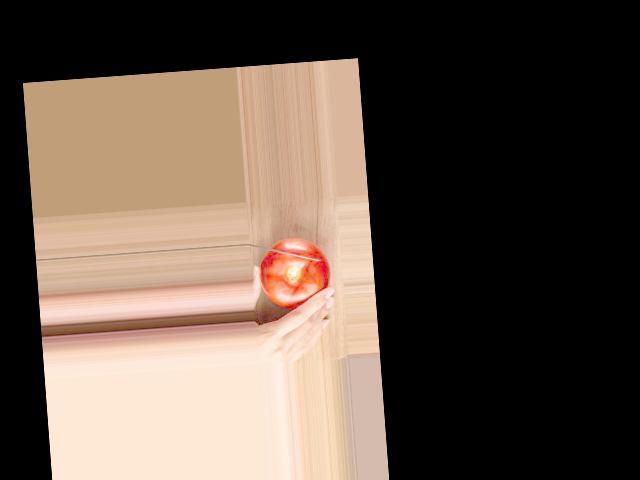tomato: (258, 236, 331, 311)
